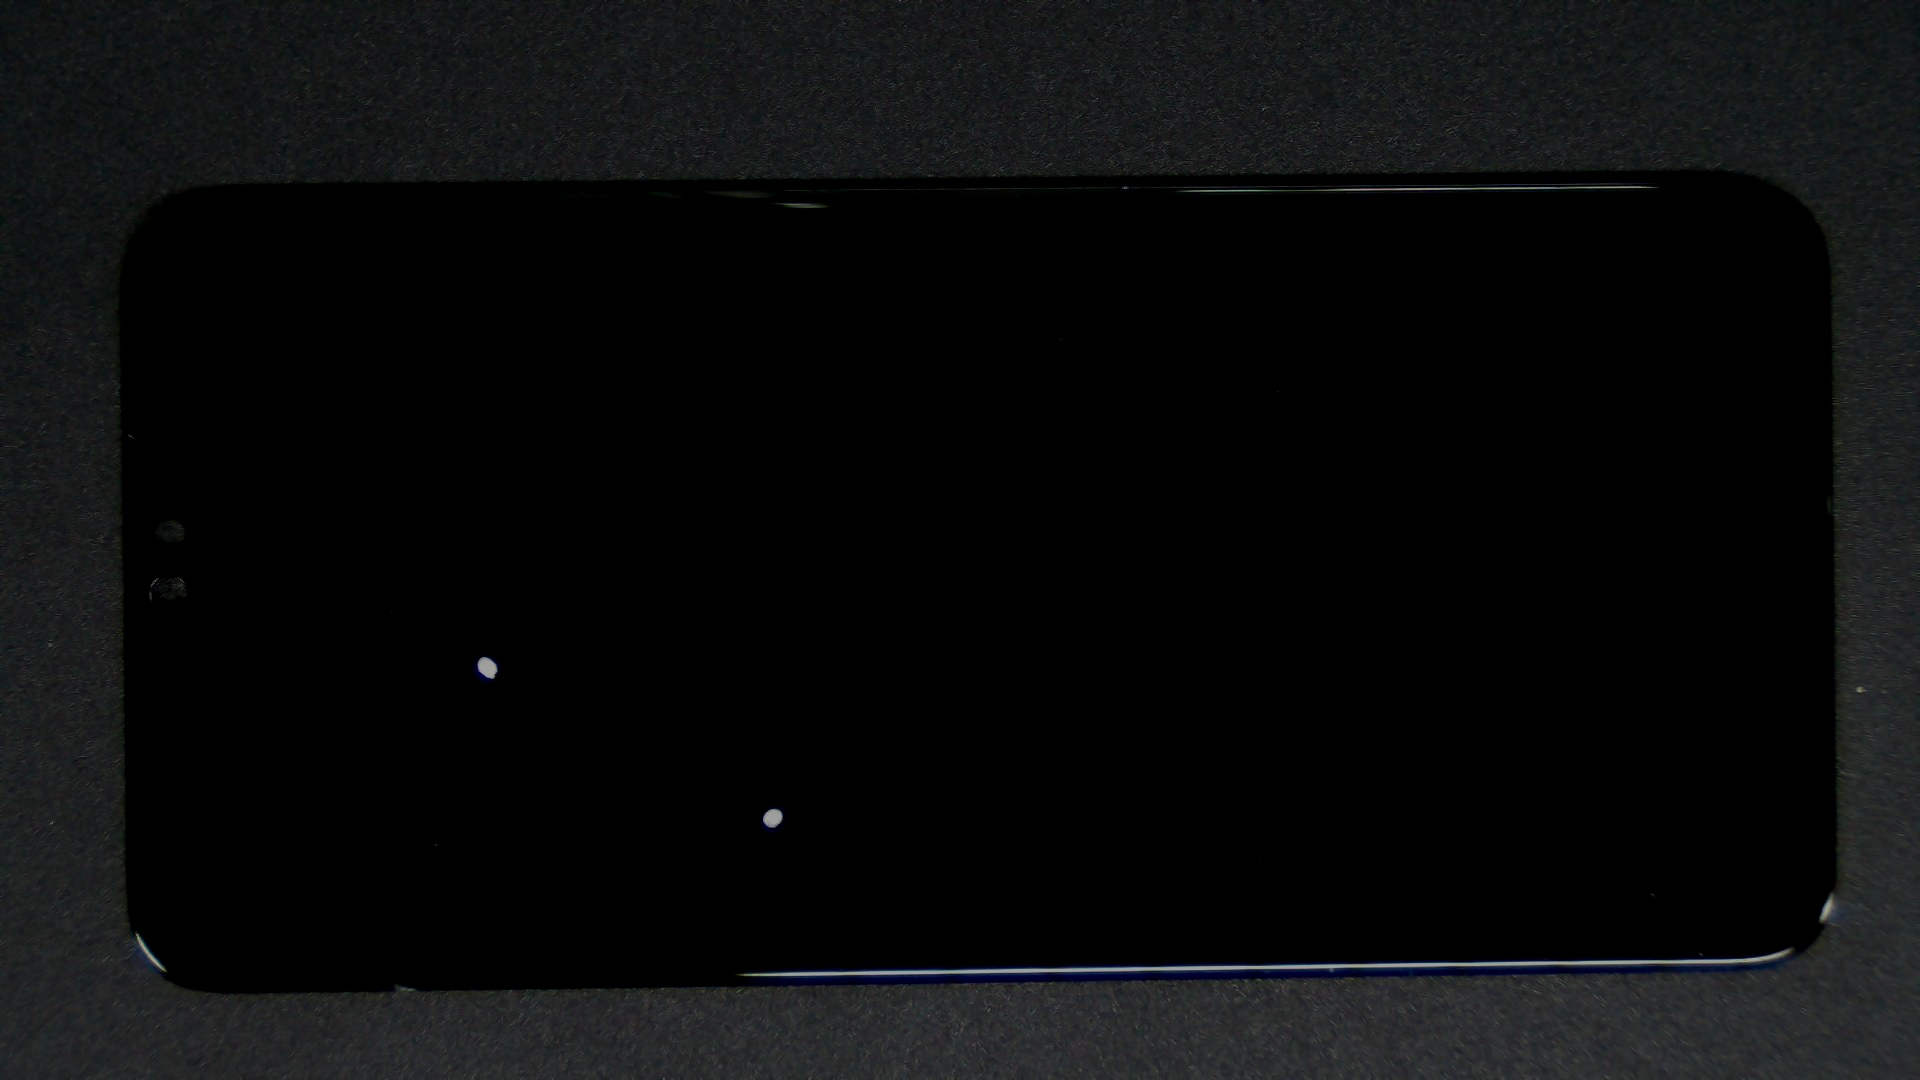oil: (386, 404, 1156, 1080), (243, 327, 720, 985)
